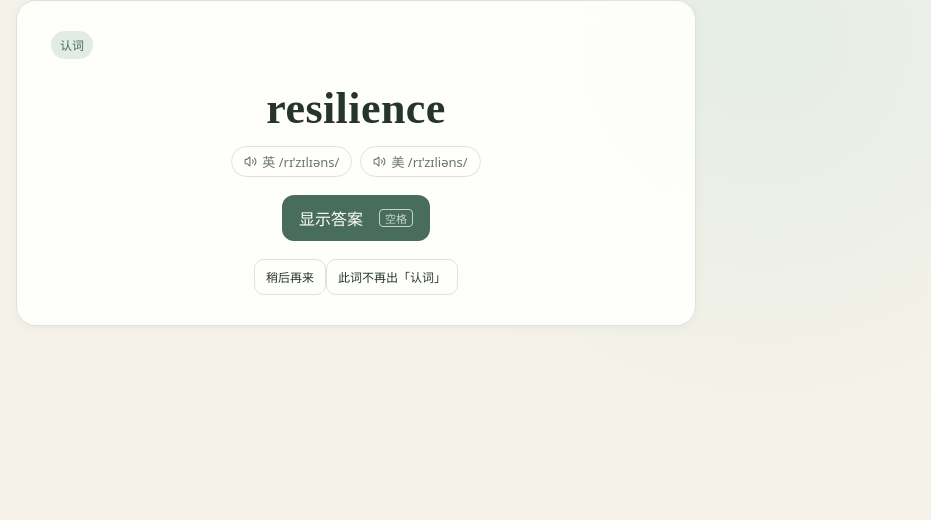
it: 正向卡（reveal 流） › 先隐藏答案，空格/按钮翻面后可评分
The width and height of the screenshot is (931, 520).
Expected: the text "恢复力" is not shown
Click the button "显示答案 空格": (356, 218) [282,195,430,241]
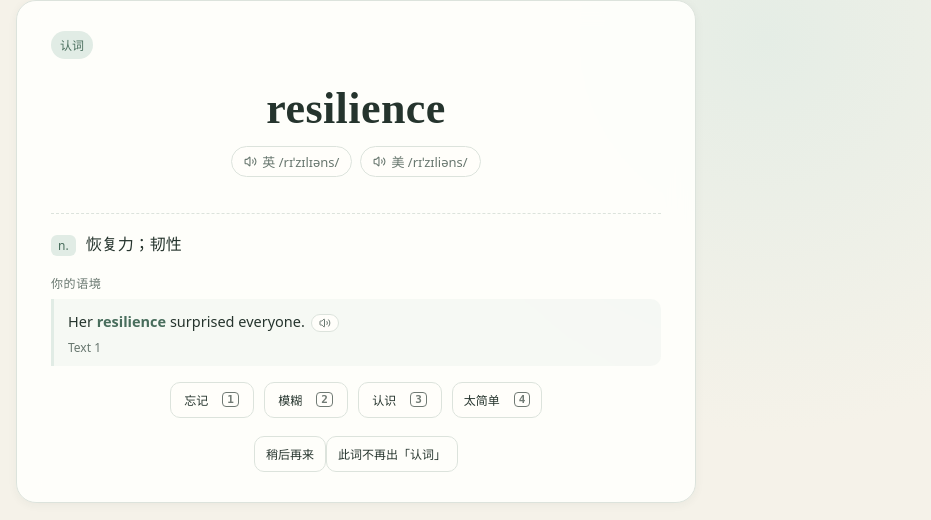
Expected: the text "恢复力" is shown, [86,233,182,255]
